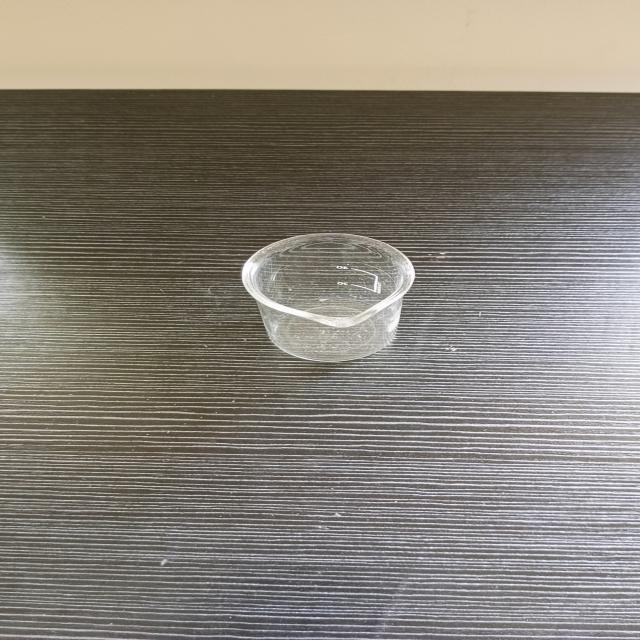beaker: (234, 227, 421, 366)
